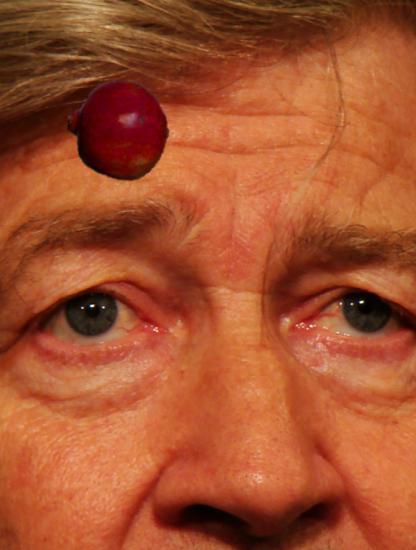Pomegranate: (67, 80, 170, 183)
